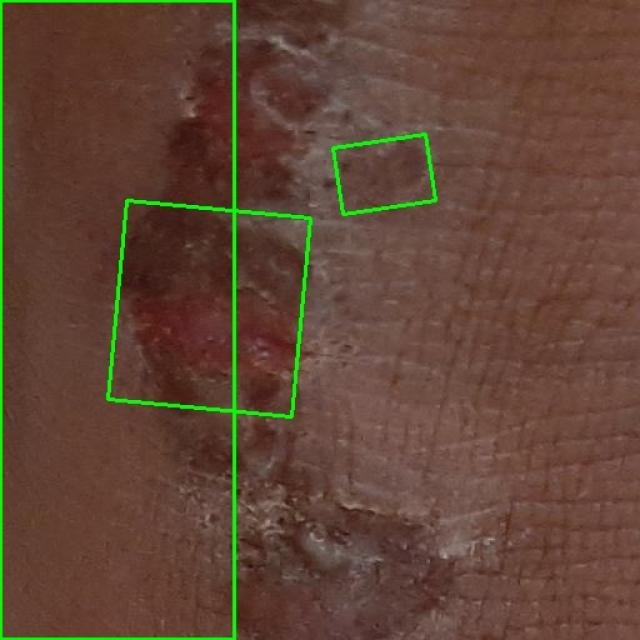Contact Dermatitis: (0, 0, 234, 639), (108, 201, 310, 417), (333, 135, 436, 214)
